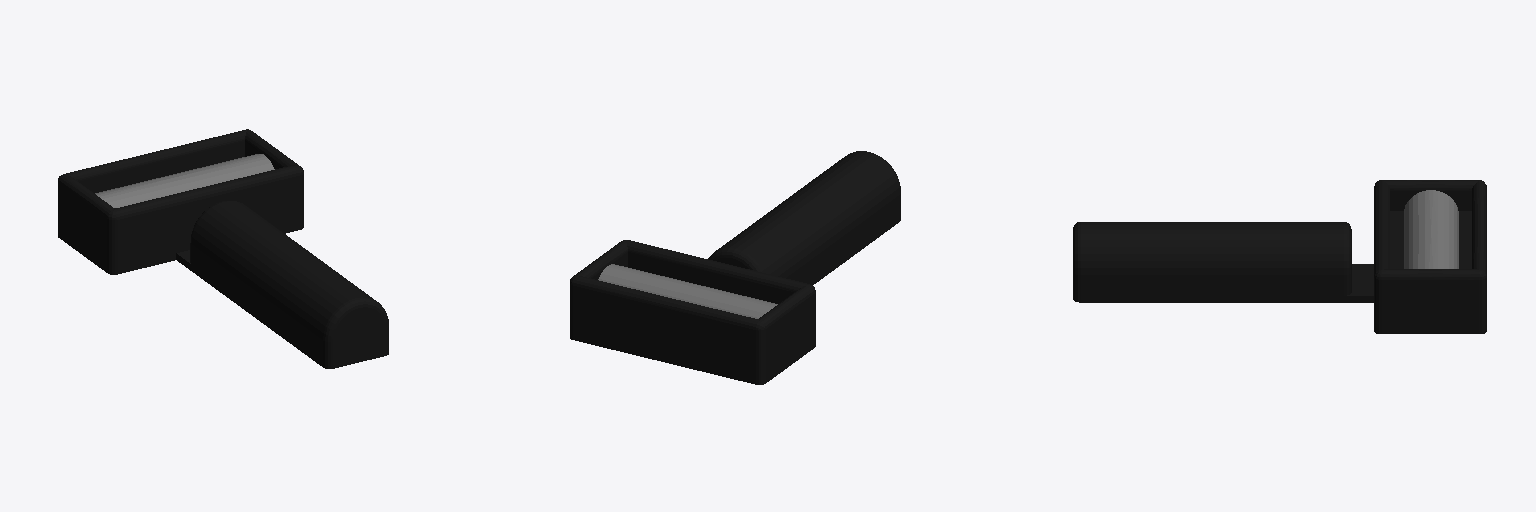
The model's file is mbes.obj.
The picture shows the model from 3 angles: view 1: azimuth 30°, elevation 25°; view 2: azimuth 150°, elevation 25°; view 3: azimuth 270°, elevation 25°; orthographic projection.
Parts seen in each view (by area): view 1: mbes; view 2: mbes; view 3: mbes.
Part boxes in pixels (left/top/right/bottom): mbes: left=58, top=129, right=388, bottom=368; mbes: left=570, top=151, right=900, bottom=384; mbes: left=1073, top=180, right=1486, bottom=333.
Size of the model in its own units: 0.15 by 0.045 by 0.275.